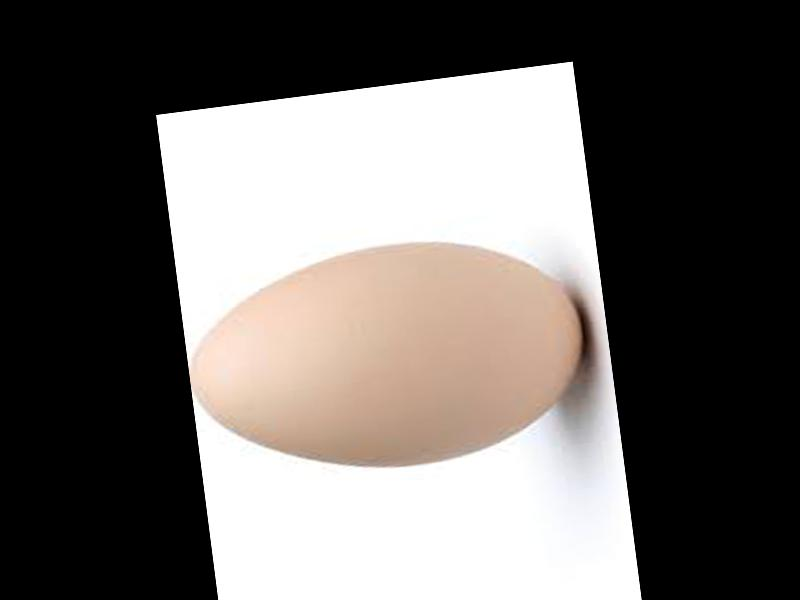Eggs: (179, 223, 599, 491)
